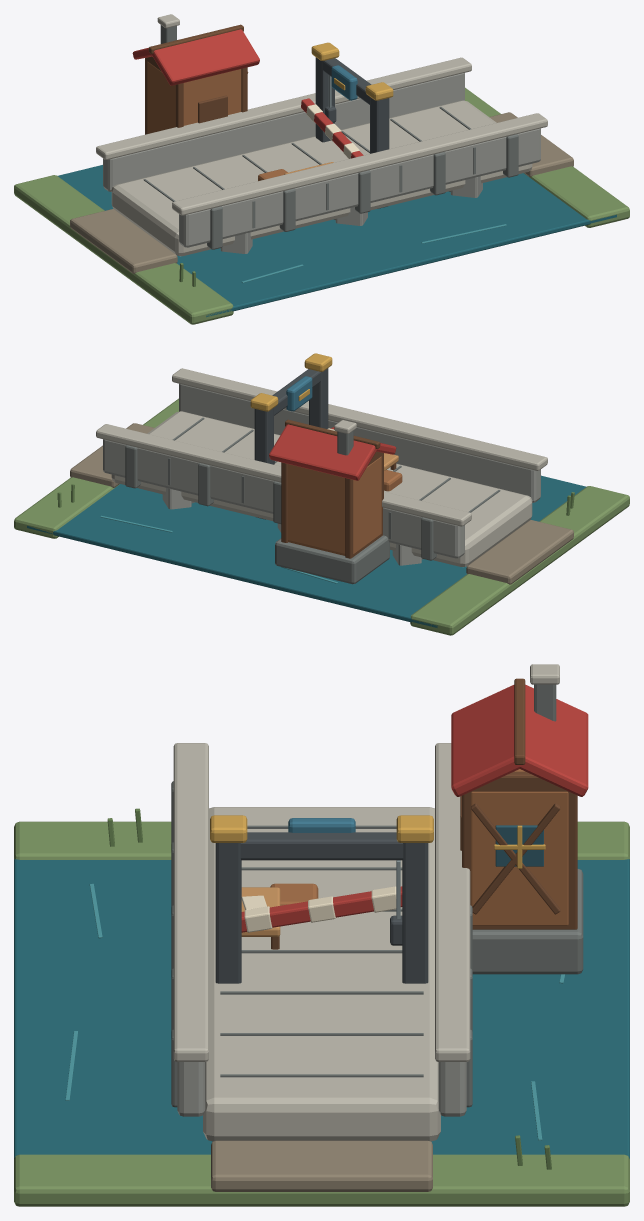
File: environment_bridge_checkpoint_v01.glb
3 renders of one model, top to bottom at view 1: azimuth 30°, elevation 25°; view 2: azimuth 150°, elevation 25°; view 3: azimuth 270°, elevation 25°, orthographic. The views are drawn at different scales.
Visible parts, largest first — view 1: GEO_River, GEO_BridgeDeck, GEO_BridgeParapet_L, GEO_BridgeParapet_R, GEO_RiverBank, GEO_ParapetCap_L, GEO_ParapetCap_R, GEO_CheckpointRoofSlope, GEO_CheckpointHut, GEO_Causeway, GEO_RiverBank.001, GEO_Causeway.001 (+15 smaller); view 2: GEO_River, GEO_BridgeDeck, GEO_BridgeParapet_R, GEO_BridgeParapet_L, GEO_CheckpointHut, GEO_RiverBank, GEO_ParapetCap_L, GEO_ParapetCap_R, GEO_Causeway, GEO_CheckpointRoofSlope.001, GEO_RiverBank.001, GEO_CheckpointFoundation (+15 smaller); view 3: GEO_River, GEO_BridgeDeck, GEO_RiverBank.001, GEO_Causeway.001, GEO_ParapetCap_L, GEO_CheckpointHut, GEO_ParapetCap_R, GEO_RiverBank, GEO_CheckpointRoofSlope, GEO_CheckpointFoundation, GEO_CheckpointRoofSlope.001, GEO_GateBeam (+18 smaller).
Part boxes in pixels (x1,y1,x2,y2): GEO_River: (58, 165, 616, 317); GEO_BridgeDeck: (111, 100, 532, 256); GEO_BridgeParapet_L: (179, 128, 540, 247); GEO_BridgeParapet_R: (103, 73, 464, 191); GEO_RiverBank: (14, 175, 233, 324); GEO_ParapetCap_L: (172, 113, 547, 215); GEO_ParapetCap_R: (96, 57, 471, 159); GEO_CheckpointRoofSlope: (151, 29, 259, 85); GEO_CheckpointHut: (147, 61, 241, 133); GEO_Causeway: (70, 209, 177, 273); GEO_RiverBank.001: (465, 87, 629, 227); GEO_Causeway.001: (489, 112, 573, 177); GEO_River: (27, 475, 586, 627); GEO_BridgeDeck: (111, 411, 532, 567); GEO_BridgeParapet_R: (103, 439, 464, 558); GEO_BridgeParapet_L: (179, 383, 540, 502); GEO_CheckpointHut: (287, 456, 381, 555); GEO_RiverBank: (410, 486, 629, 635); GEO_ParapetCap_L: (172, 368, 547, 470); GEO_ParapetCap_R: (96, 424, 471, 526); GEO_Causeway: (466, 520, 573, 584); GEO_CheckpointRoofSlope.001: (269, 424, 376, 480); GEO_RiverBank.001: (14, 398, 178, 538); GEO_CheckpointFoundation: (275, 535, 389, 584); GEO_River: (14, 859, 629, 1158); GEO_BridgeDeck: (203, 807, 440, 1141); GEO_RiverBank.001: (14, 1154, 629, 1206); GEO_Causeway.001: (211, 1140, 432, 1191); GEO_ParapetCap_L: (173, 743, 208, 1061); GEO_CheckpointHut: (471, 769, 568, 925); GEO_ParapetCap_R: (435, 743, 470, 1061); GEO_RiverBank: (14, 821, 629, 859); GEO_CheckpointRoofSlope: (451, 685, 521, 796); GEO_CheckpointFoundation: (472, 869, 583, 974); GEO_CheckpointRoofSlope.001: (520, 684, 588, 796); GEO_GateBeam: (240, 832, 403, 860).
Size of the model in its own units: 9.4 by 3.41 by 6.6.
